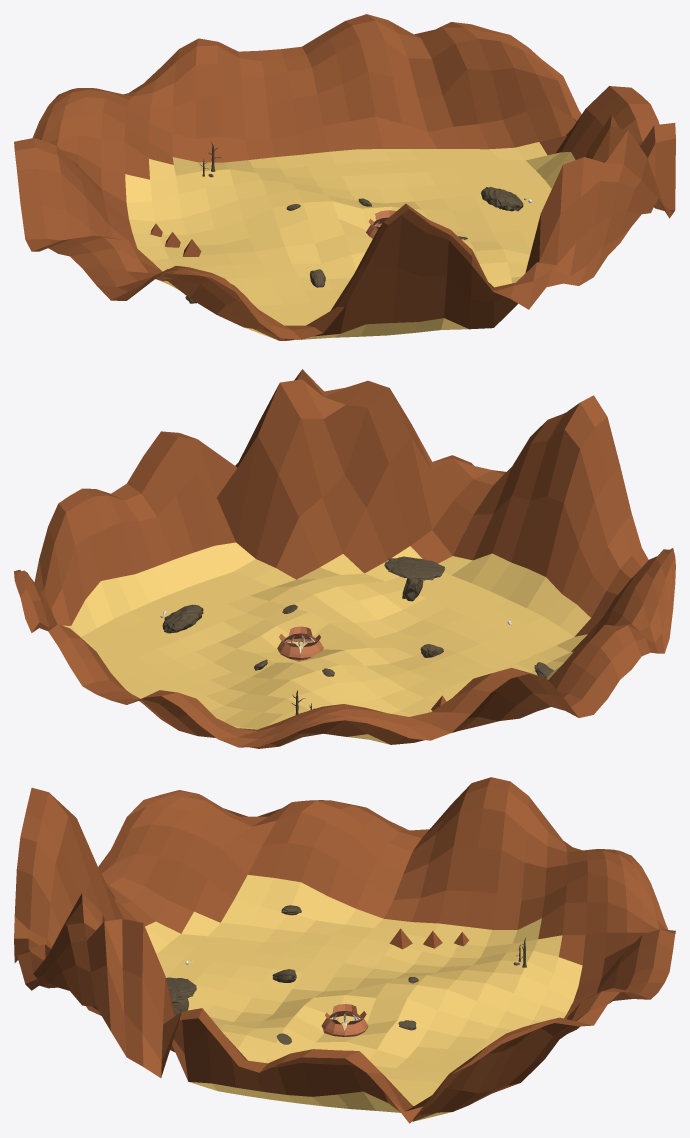
Rendered from area4.fbx.
3 renders of one model, top to bottom at view 1: azimuth 30°, elevation 25°; view 2: azimuth 150°, elevation 25°; view 3: azimuth 270°, elevation 25°, orthographic.
Parts seen in each view (by area): view 1: Circle, Cube.005; view 2: Circle, Cube.006, Circle.001, Cube.005; view 3: Circle, Circle.001, Cube.006.
Boxes of the visible parts, x1,y1,x2,y2 form: Circle: (14, 14, 675, 340); Cube.005: (481, 186, 523, 211); Circle: (14, 369, 675, 748); Cube.006: (384, 556, 444, 580); Circle.001: (277, 626, 323, 661); Cube.005: (162, 604, 203, 633); Circle: (14, 777, 675, 1123); Circle.001: (321, 1004, 368, 1036); Cube.006: (166, 977, 196, 1003).
Bounding box in the file's own units: 2739 × 834 × 2739.
